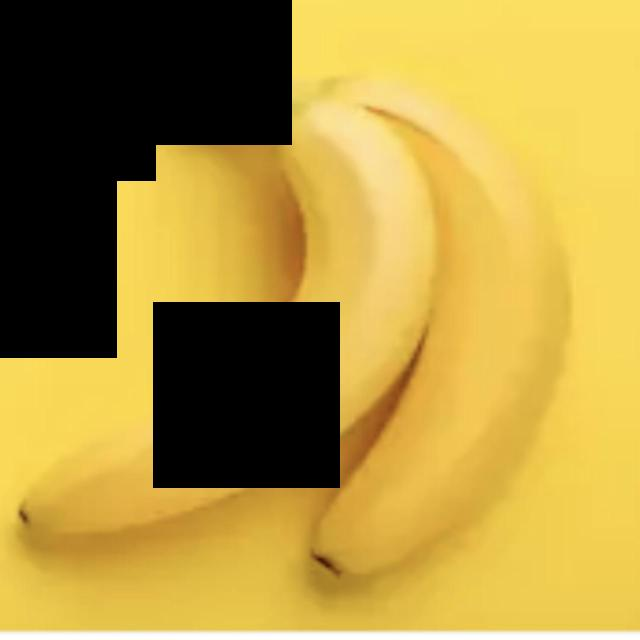banana: (1, 22, 401, 569), (278, 59, 598, 590)
